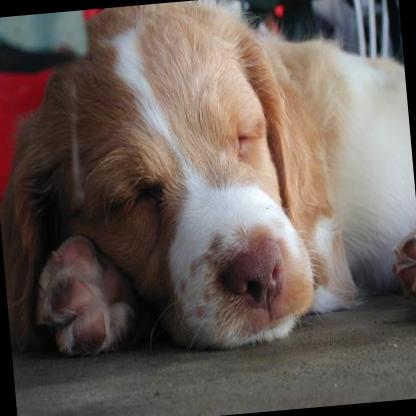Brittany_spaniel: (3, 0, 416, 366)
